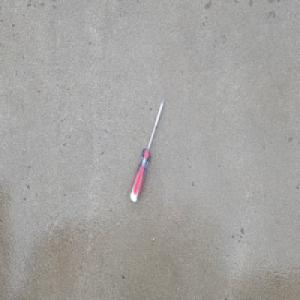Screwdriver: (129, 96, 166, 204)
